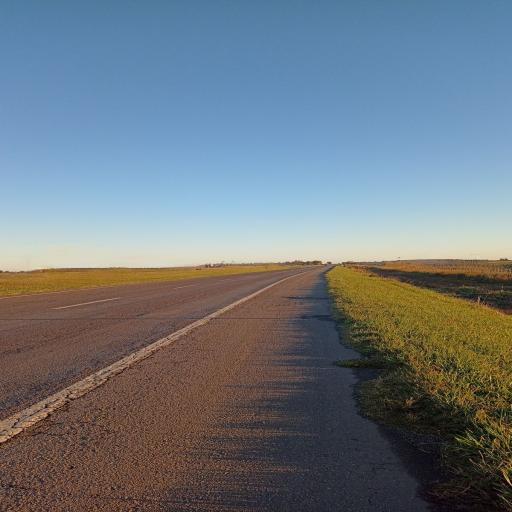glass_wall: (0, 259, 337, 445)
